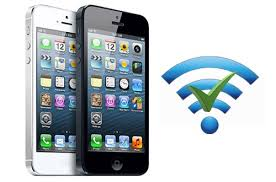iphone: (72, 1, 155, 180)
iphone5: (71, 1, 154, 180)
